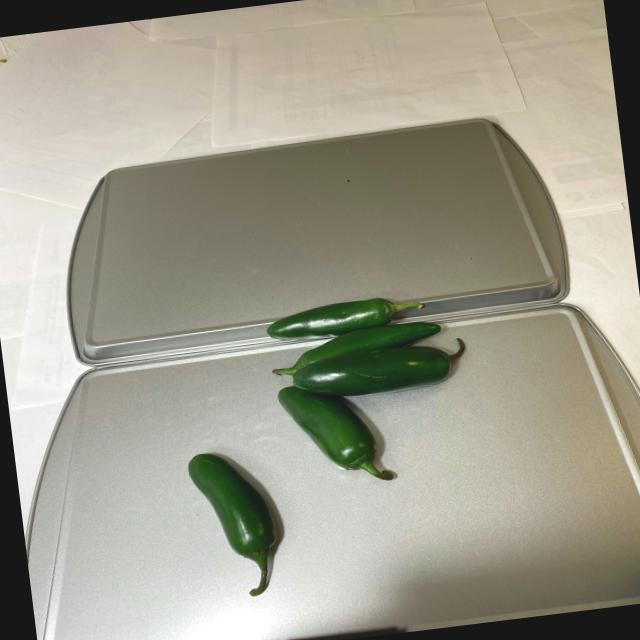chilli: (173, 286, 500, 604)
